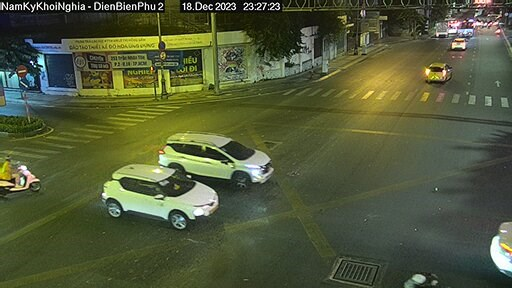car: (99, 162, 216, 232), (157, 126, 276, 194), (421, 60, 454, 90), (450, 36, 470, 51)
